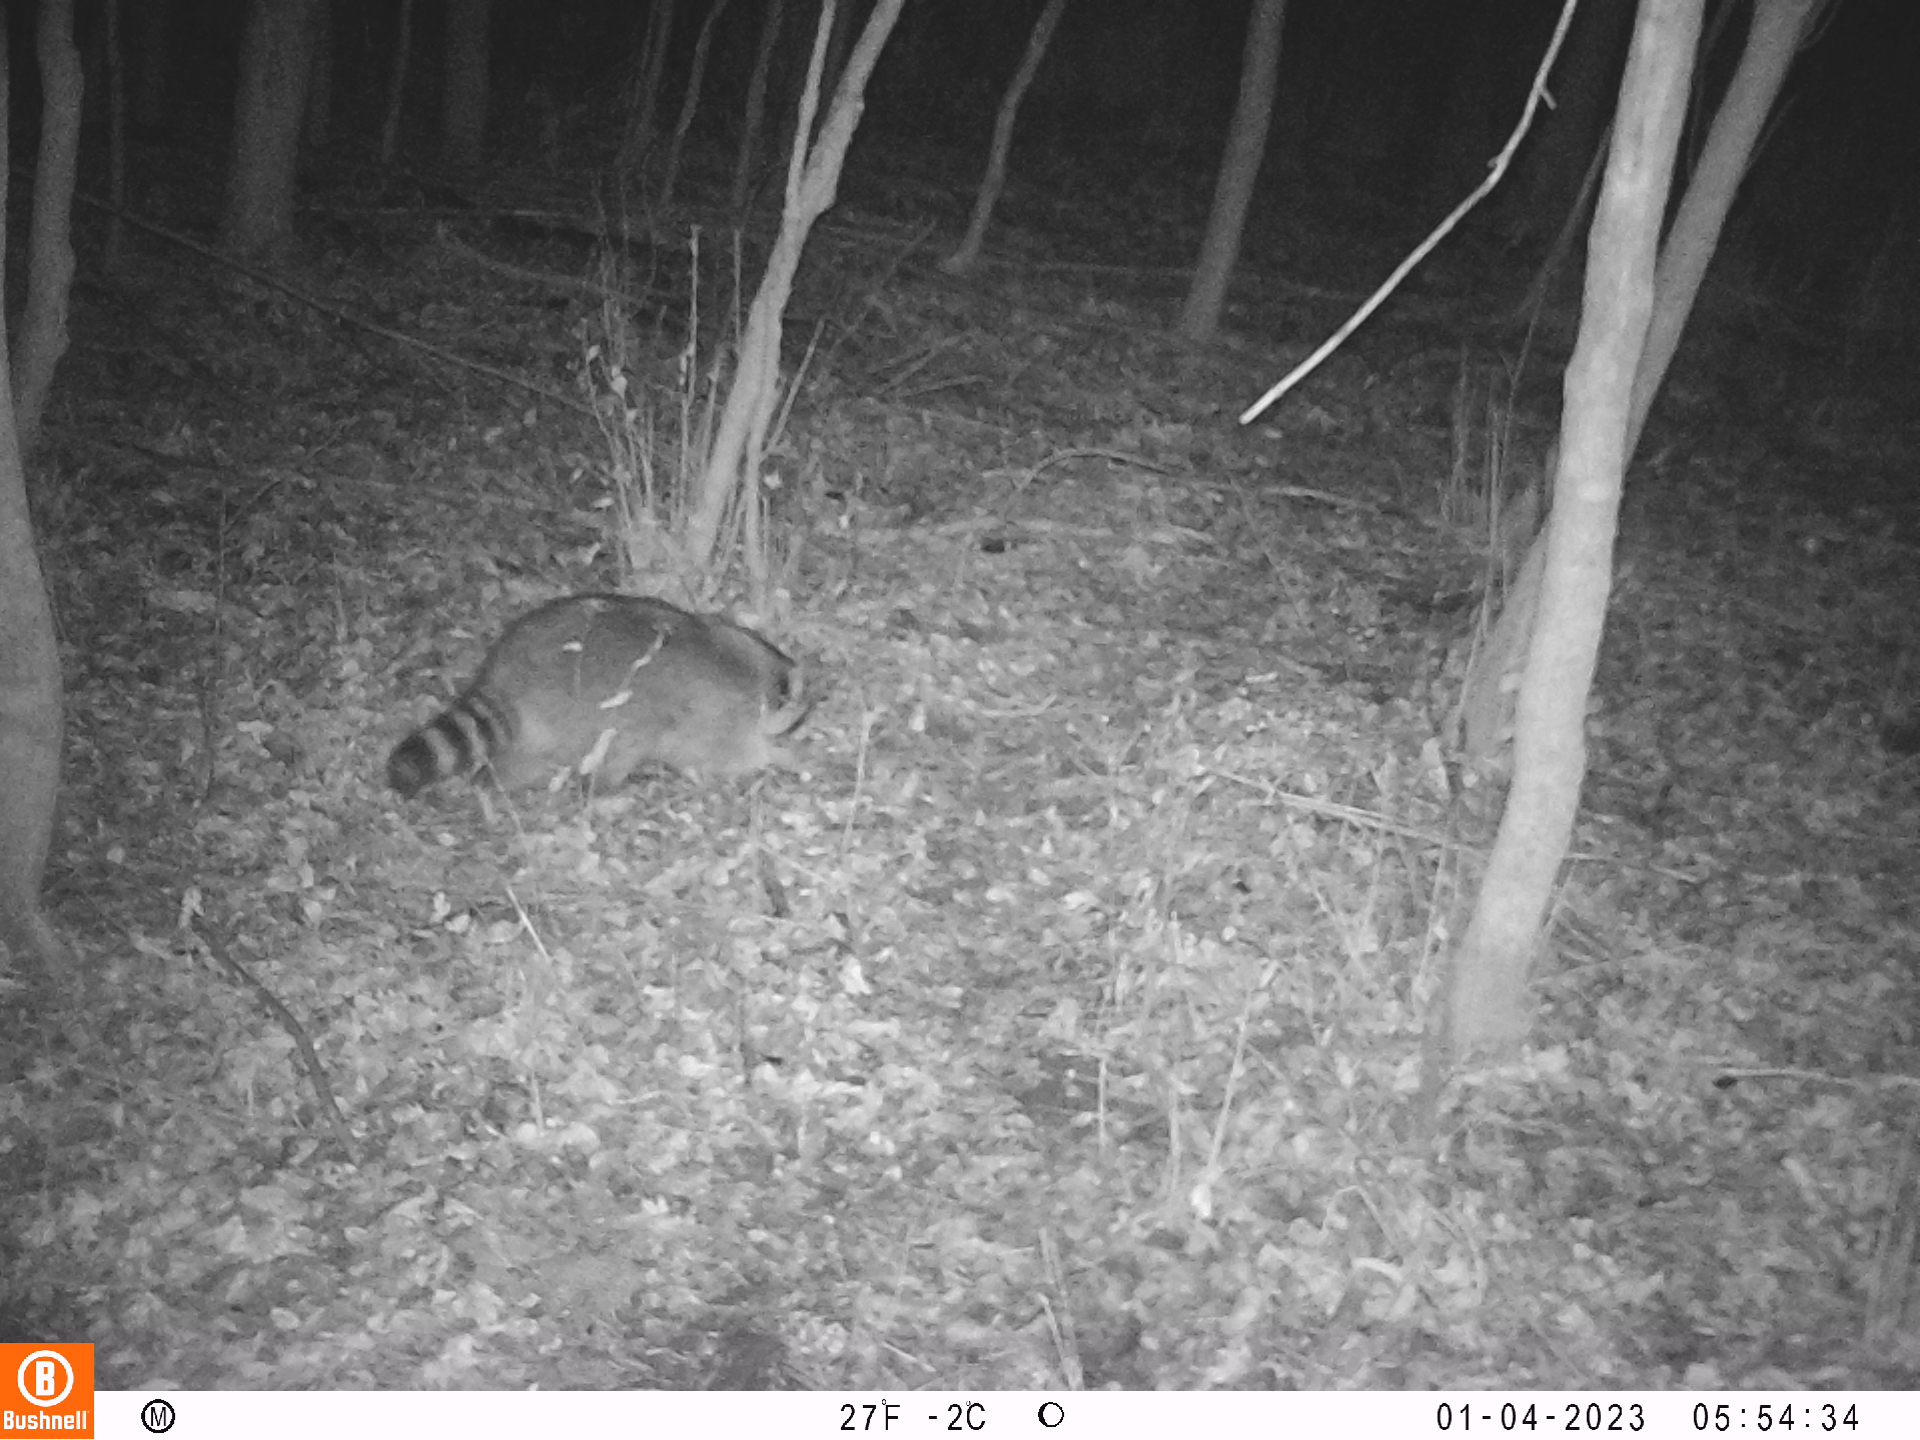Raccoon: (382, 585, 819, 796)
